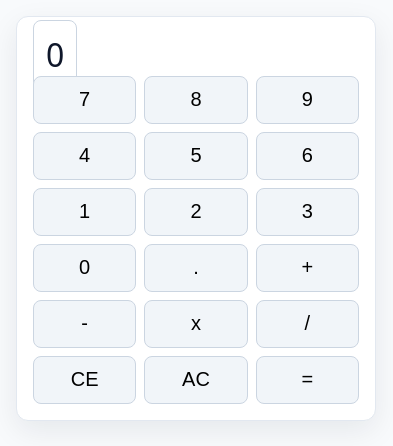
App number entry behavior › updates display with pointer input
Click the button "1": (85, 212) [33,188,136,236]
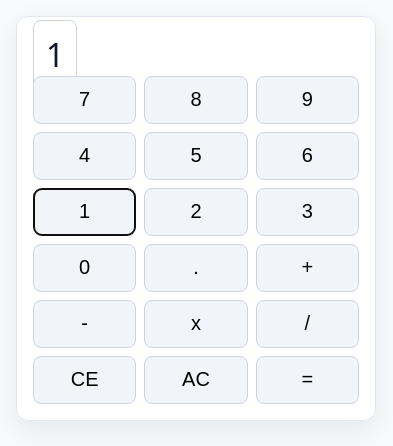
Click the button "2": (196, 212) [144,188,248,236]
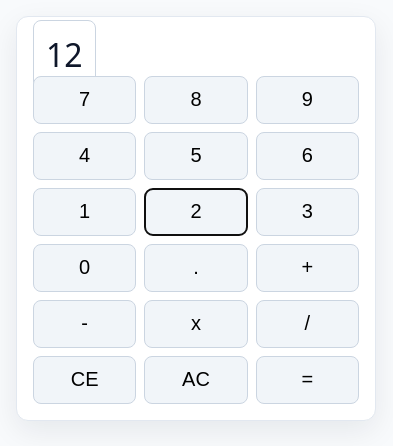
Click the button "3": (307, 212) [256,188,359,236]
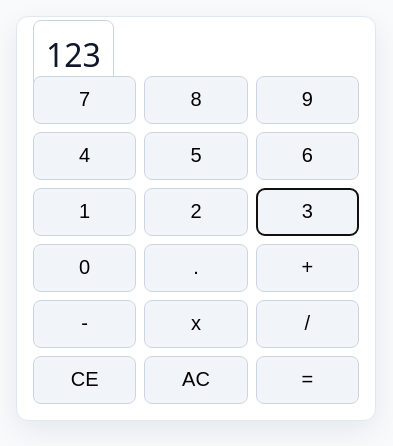
Now the text named "Display" reads "123", box [46,32,101,76]
